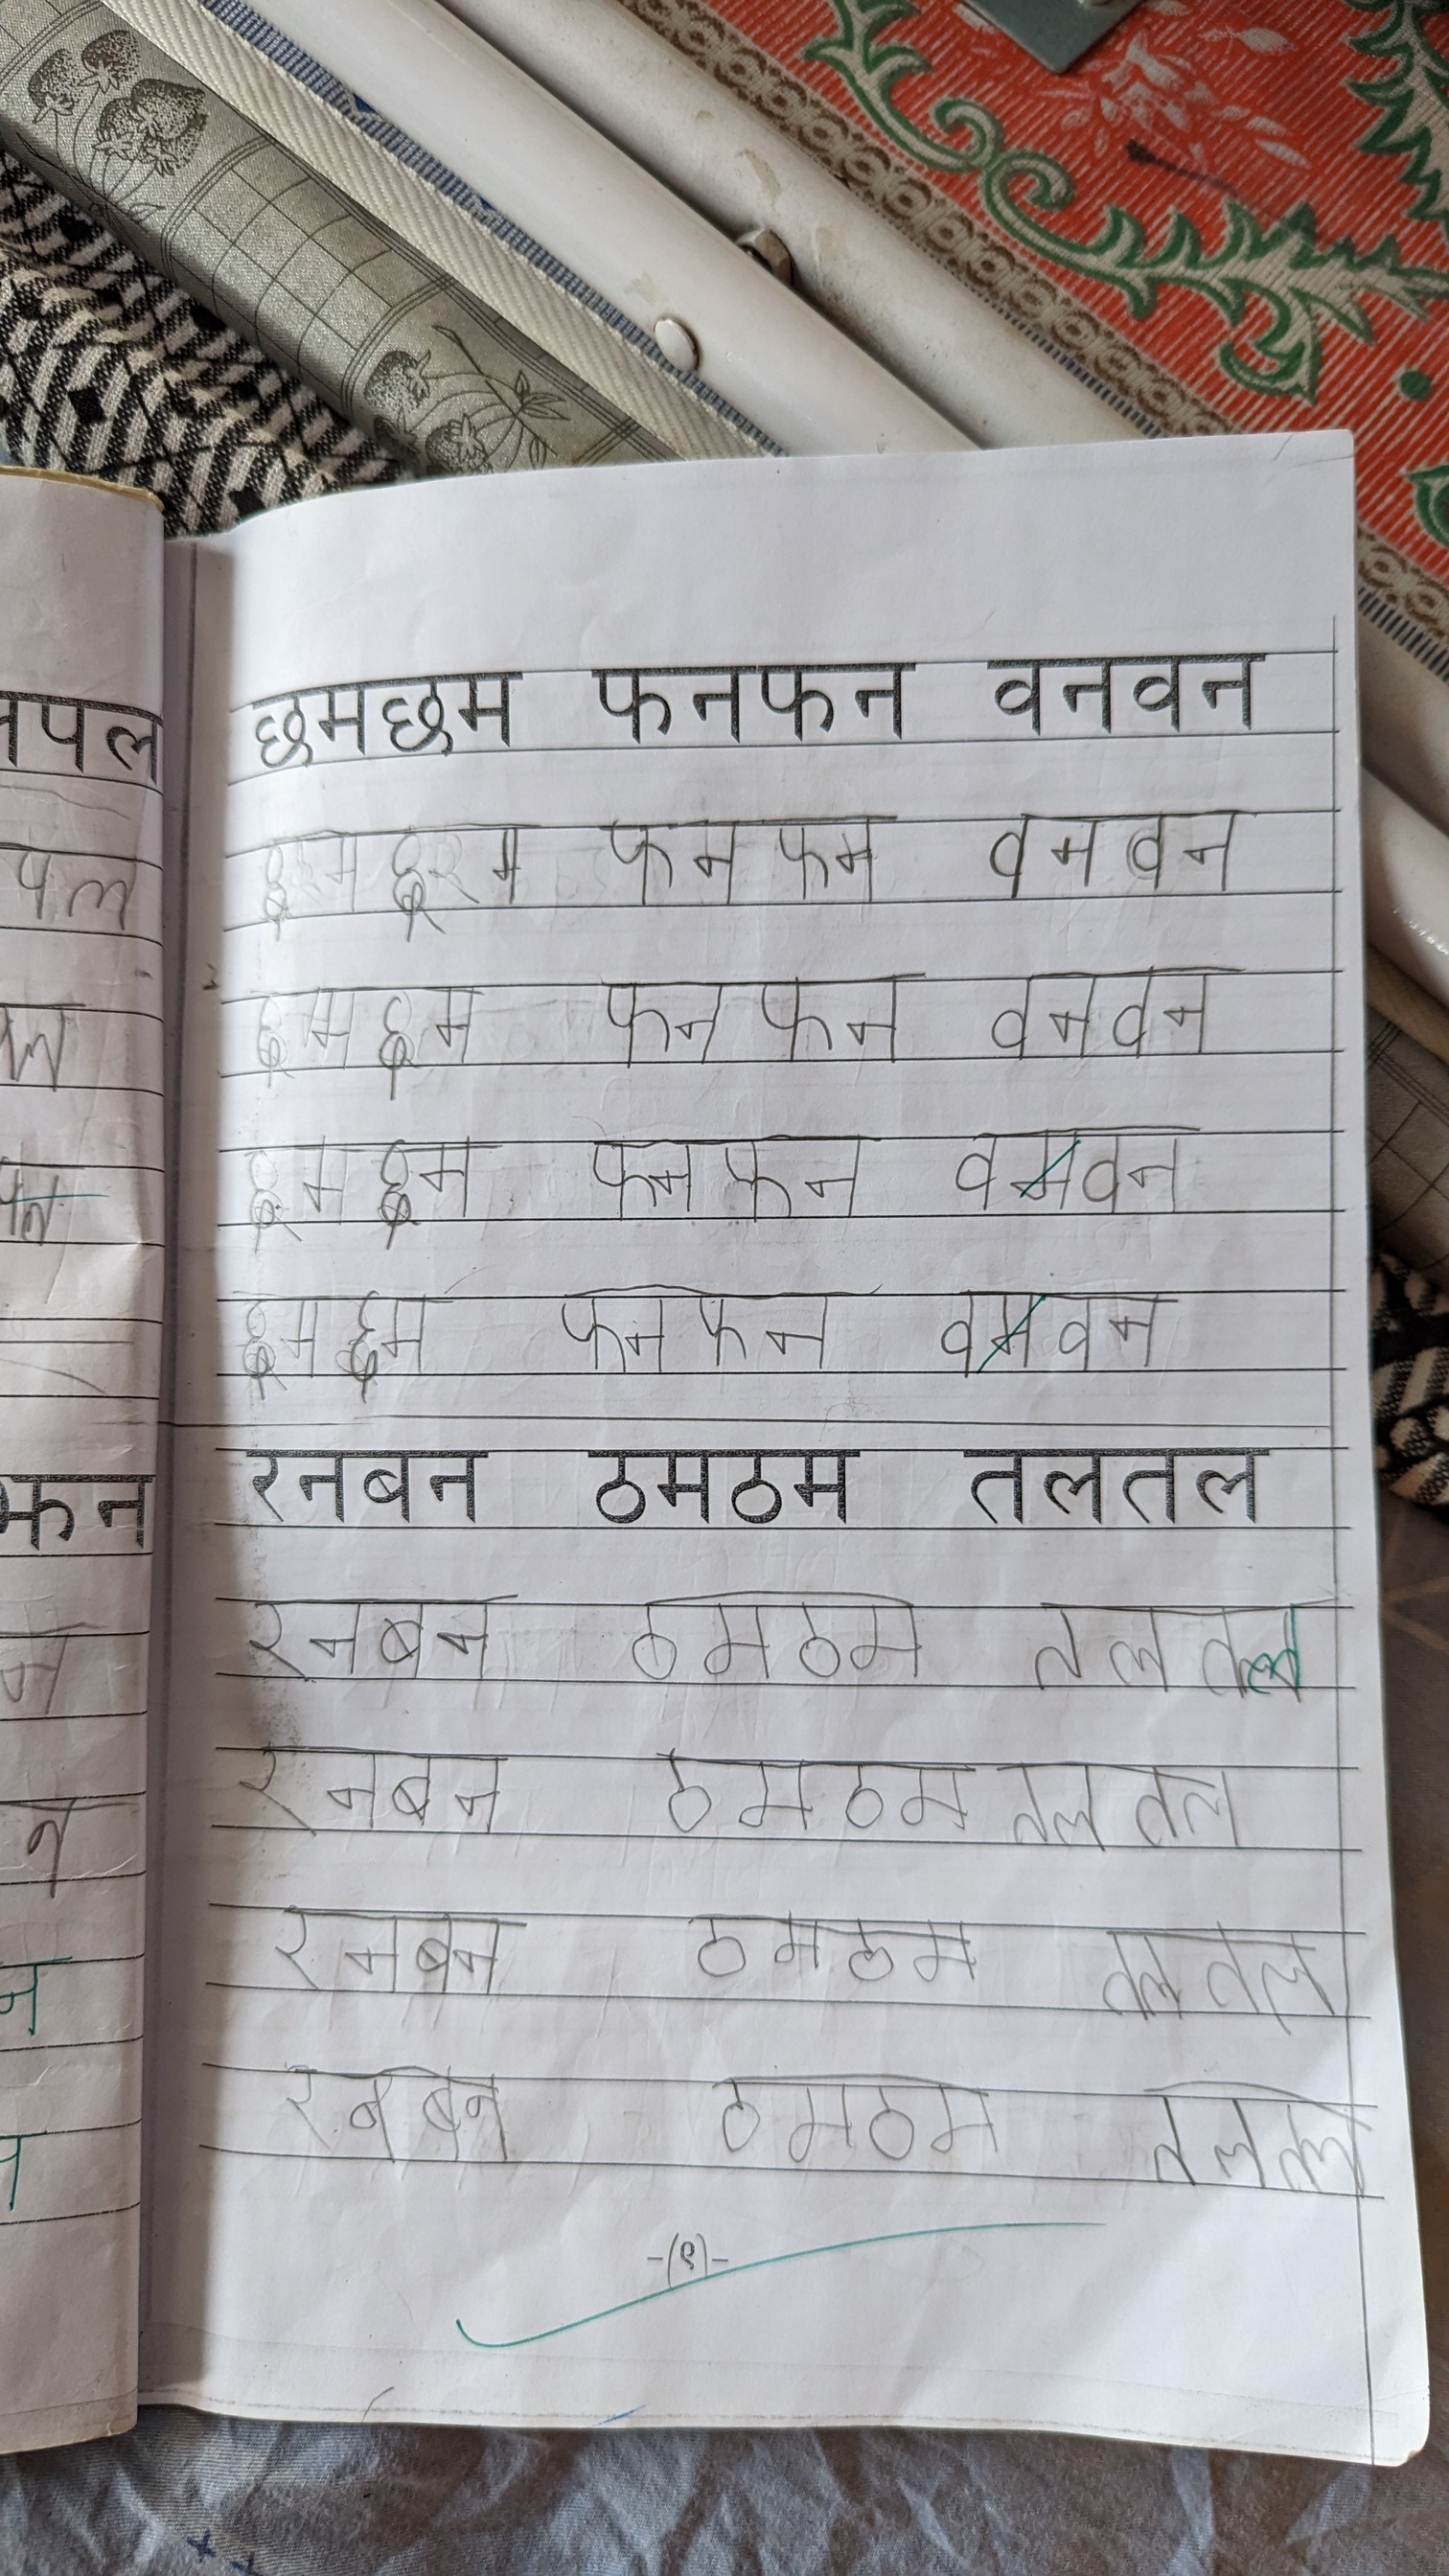text: (244, 817, 531, 938), (630, 1582, 934, 1695), (547, 1274, 855, 1382), (1014, 1596, 1316, 1706), (596, 971, 915, 1072), (704, 2066, 1005, 2173), (600, 803, 899, 909), (649, 1750, 977, 1845), (582, 1131, 870, 1231), (272, 2059, 517, 2178), (1132, 2077, 1366, 2201), (971, 798, 1253, 901), (235, 1136, 492, 1246), (679, 1907, 980, 1997), (241, 1743, 510, 1842), (246, 982, 485, 1092), (945, 1120, 1200, 1221), (938, 1281, 1182, 1385), (271, 1893, 515, 1997), (225, 1591, 501, 1683), (1001, 1759, 1246, 1856), (985, 966, 1231, 1062), (1095, 1927, 1327, 2028), (235, 1302, 442, 1392)
